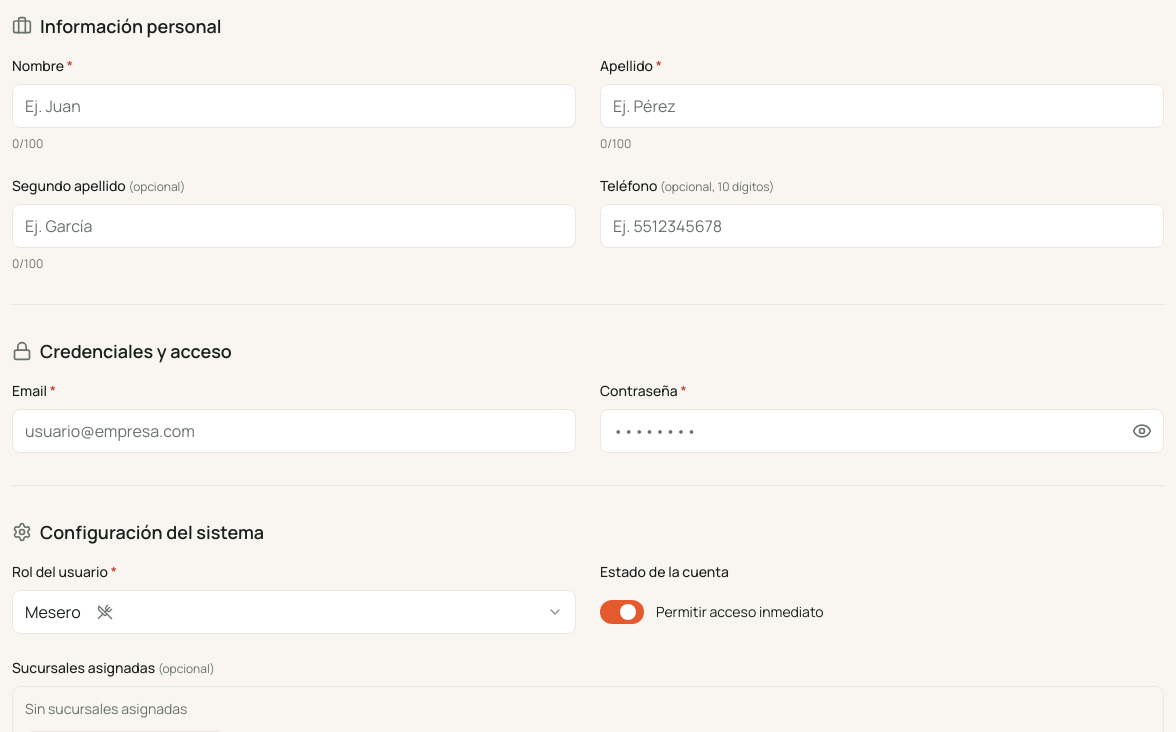
Test: UserForm › validación: creación › muestra el checklist de requisitos al escribir la contraseña
In the password field labelled "Contraseña *": point(882, 431) [600,409,1164,453], type "P"
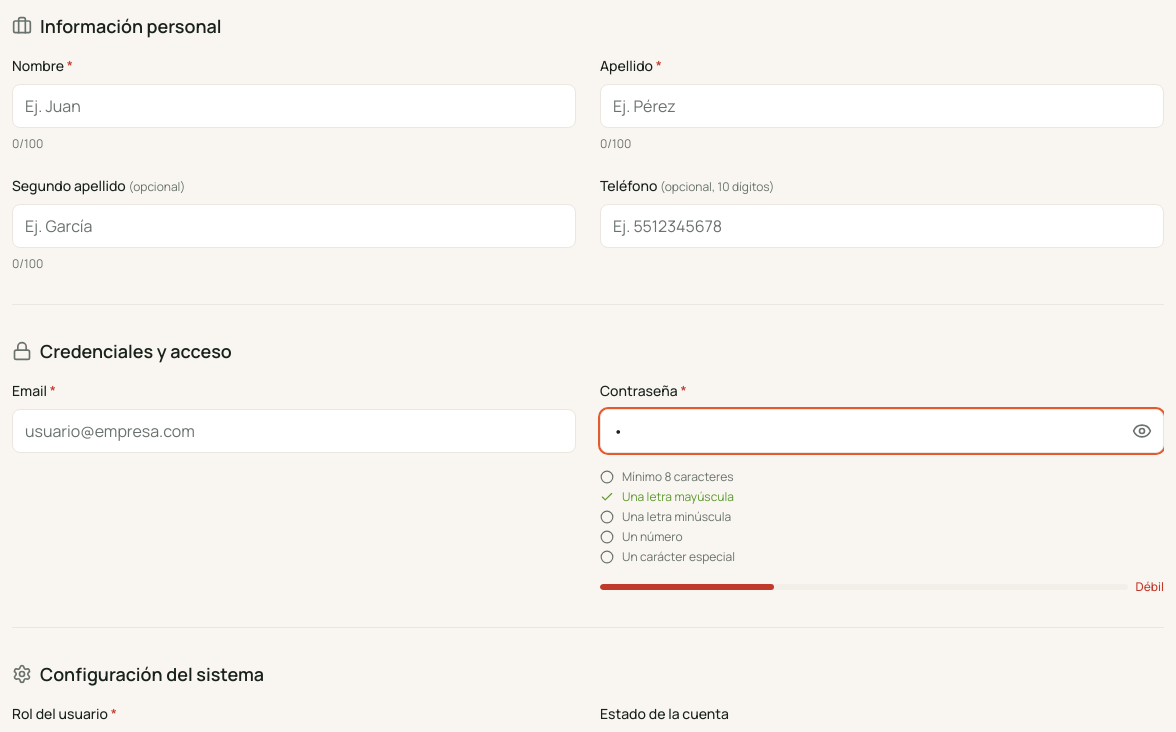
Now the text "Mínimo 8 caracteres" is shown, box [622,469,734,485]
Now the text "Una letra mayúscula" is shown, box [622,489,734,505]
Now the text "Un número" is shown, box [622,529,683,545]
